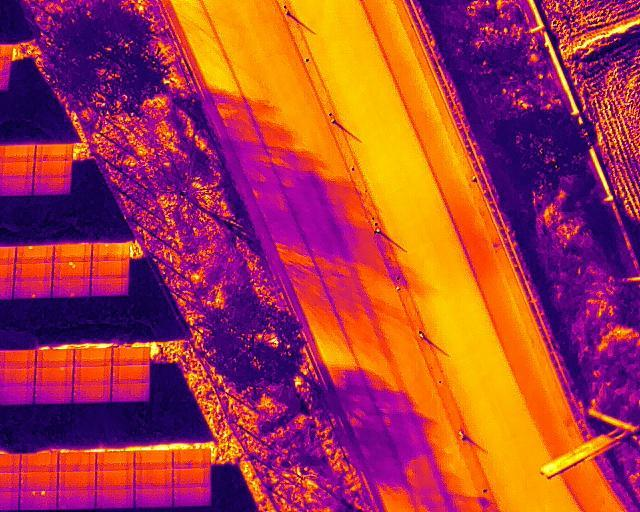Cell: (91, 243, 130, 261), (13, 281, 52, 298), (16, 246, 53, 263), (35, 367, 72, 384), (52, 281, 91, 297)
Cell-Multi: (19, 491, 58, 510), (52, 262, 91, 280)
No-Anomaly: (20, 453, 59, 472), (134, 451, 173, 470), (111, 383, 150, 402), (96, 470, 134, 489), (90, 261, 130, 279), (19, 472, 58, 490), (57, 490, 96, 508), (134, 470, 173, 488), (73, 349, 112, 367), (72, 384, 111, 402), (52, 244, 93, 261), (58, 454, 96, 472), (112, 348, 150, 366), (0, 386, 36, 405), (173, 487, 210, 505), (134, 489, 173, 506), (90, 279, 129, 296), (95, 453, 134, 470), (0, 176, 33, 196), (0, 350, 36, 368), (58, 473, 96, 490), (96, 490, 134, 507), (172, 468, 210, 485), (33, 178, 71, 195), (112, 366, 150, 383), (172, 451, 210, 468), (34, 385, 72, 402), (72, 367, 112, 383), (0, 144, 35, 162), (0, 369, 36, 386), (14, 264, 52, 280), (35, 350, 73, 366), (34, 144, 72, 160), (33, 162, 71, 177), (0, 161, 33, 175)
